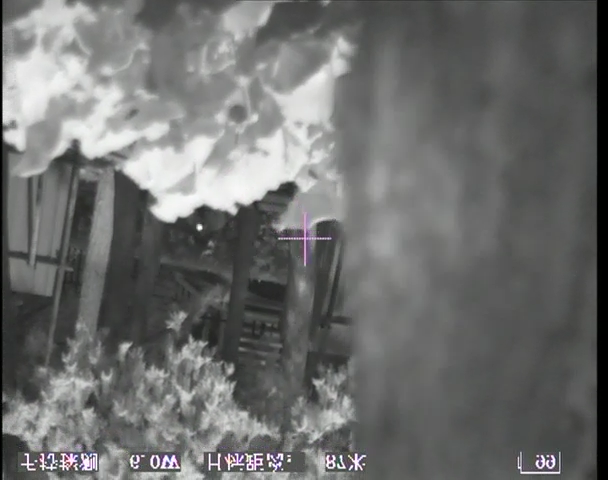my: (195, 221, 205, 232)
